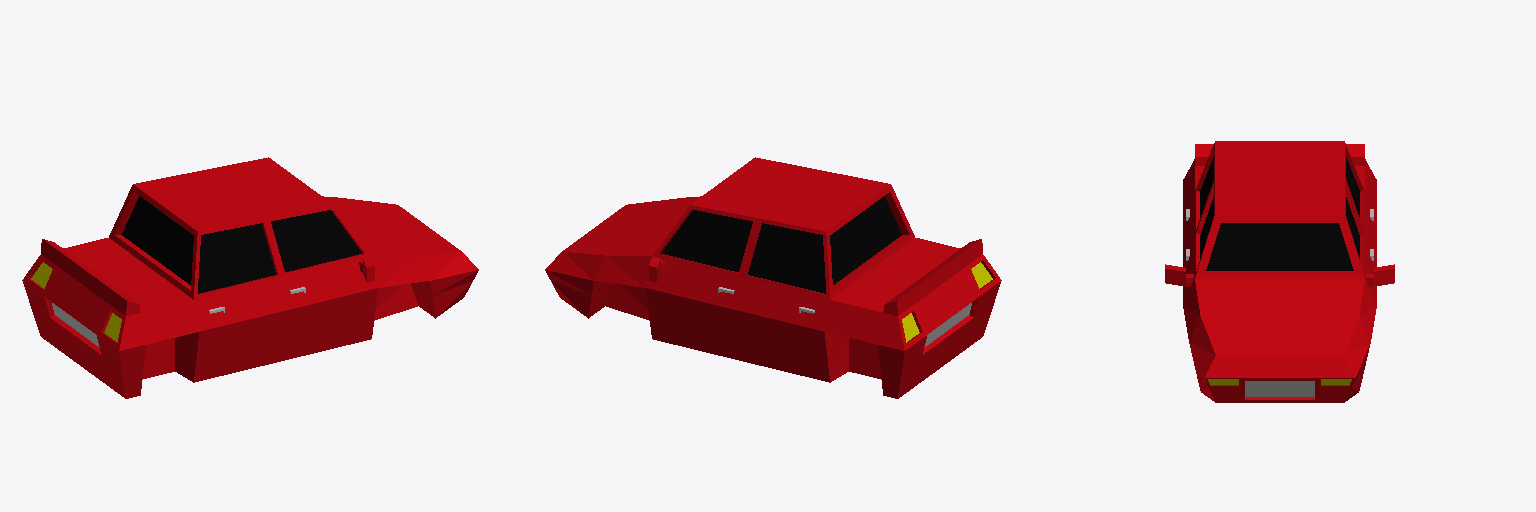
Rendered from car-2024-301.obj.
3 renders of one model, left to right at view 1: azimuth 30°, elevation 25°; view 2: azimuth 150°, elevation 25°; view 3: azimuth 270°, elevation 25°, orthographic.
Parts seen in each view (by area): view 1: Car_model; view 2: Car_model; view 3: Car_model.
Part boxes in pixels (bbox=[...]): Car_model: bbox=[22, 157, 478, 398]; Car_model: bbox=[545, 157, 1001, 398]; Car_model: bbox=[1165, 141, 1394, 402].
Bounding box in the file's own units: 9.36 × 3.39 × 5.05.